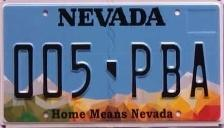0: (12, 39, 38, 102), (40, 38, 66, 101)
5: (68, 37, 99, 100)
A: (190, 39, 212, 100)
B: (158, 39, 182, 100)
P: (128, 39, 151, 100)
